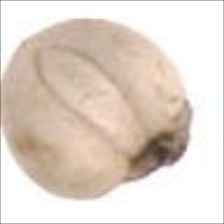L5: (32, 42, 147, 160), (124, 96, 194, 186), (5, 24, 67, 72)
L6: (1, 11, 196, 204)
